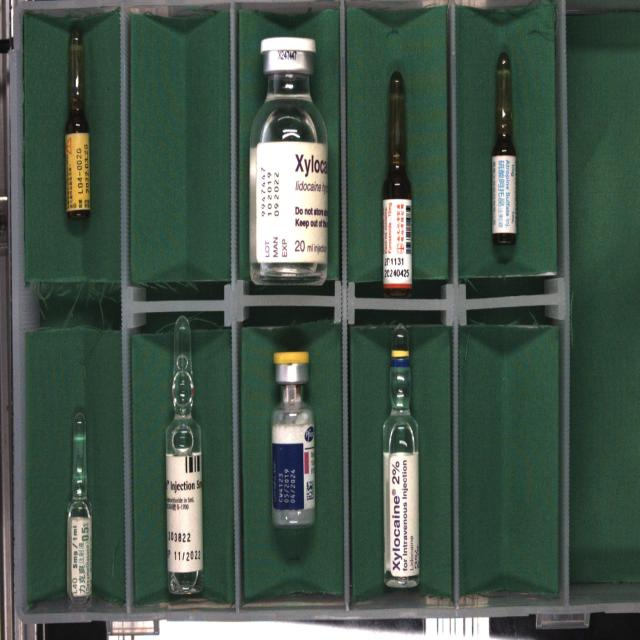Vials: (249, 37, 329, 286), (271, 351, 315, 526)
